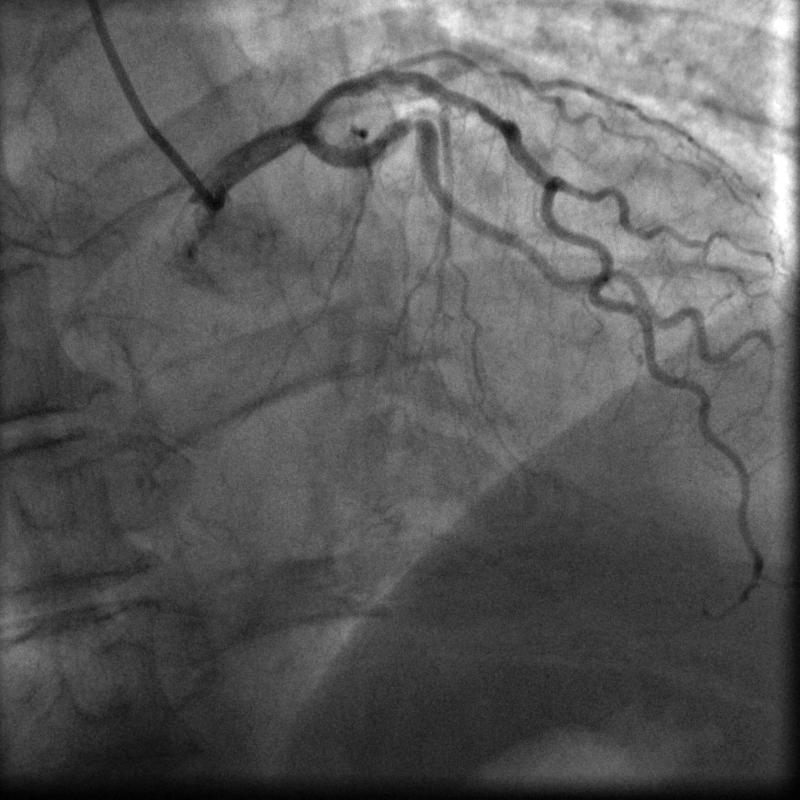Stenosis: (387, 115, 433, 139)
